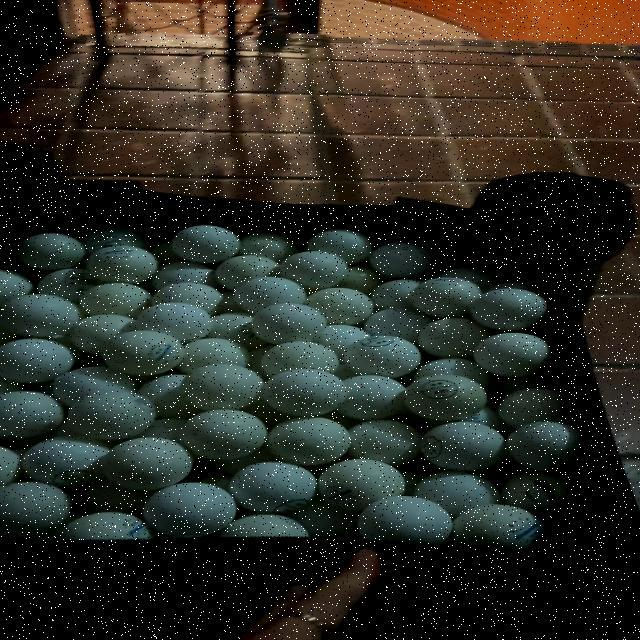ping-pong-ball: (135, 480, 243, 541), (347, 493, 452, 549), (62, 386, 160, 444), (317, 457, 419, 512), (175, 404, 266, 464), (95, 434, 195, 488), (222, 458, 318, 512), (418, 421, 512, 475), (392, 374, 490, 424), (452, 500, 541, 554), (260, 416, 356, 466), (259, 368, 348, 418), (93, 329, 181, 379), (466, 329, 550, 381), (179, 362, 262, 414), (341, 330, 424, 382), (0, 291, 84, 342), (162, 219, 250, 267), (466, 282, 550, 330), (0, 334, 72, 388), (128, 301, 216, 345), (259, 335, 342, 381), (80, 242, 162, 288), (277, 245, 354, 293), (249, 301, 329, 346), (404, 270, 482, 312), (12, 229, 86, 273), (225, 272, 308, 310), (304, 286, 376, 328), (304, 220, 374, 262), (367, 239, 437, 280)
